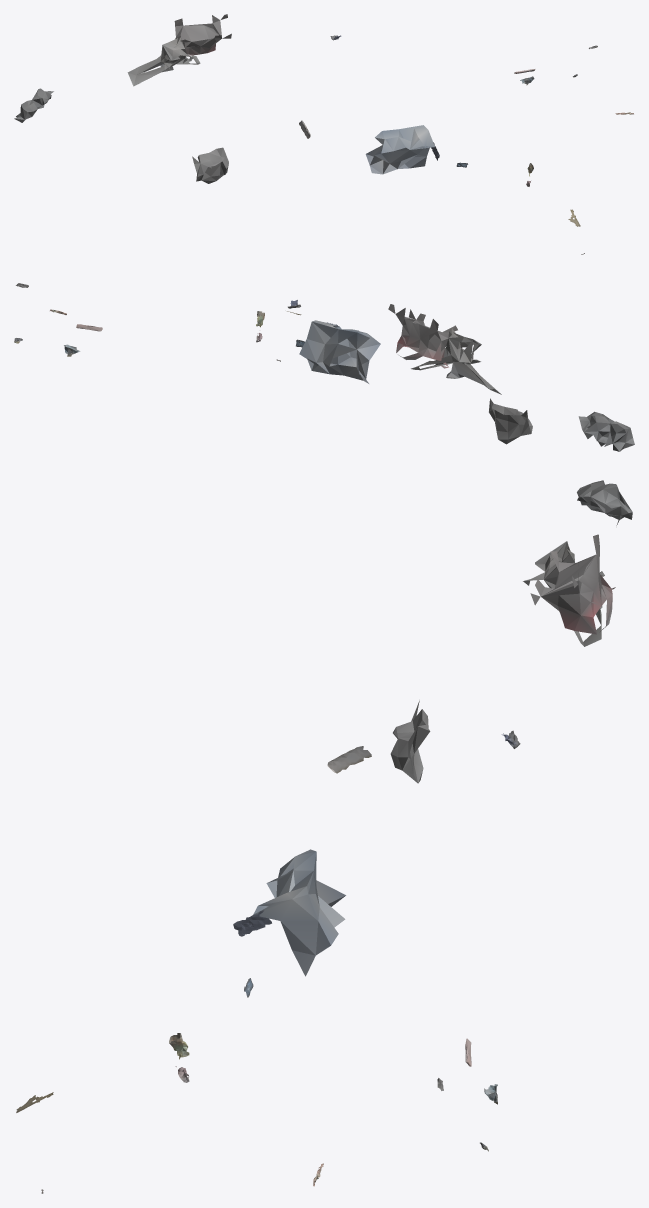
Rendered from models-1-0.glb.
The picture shows the model from 3 angles, top to bottom: view 1: azimuth 30°, elevation 25°; view 2: azimuth 150°, elevation 25°; view 3: azimuth 270°, elevation 25°; orthographic projection. The views are drawn at different scales.
Parts seen in each view (by area): view 1: obj-1-1589, obj-1-1525, obj-1-664, obj-1-1359, obj-1-1509; view 2: obj-1-1589, obj-1-1525, obj-1-664, obj-1-1509, obj-1-1359; view 3: obj-1-1589, obj-1-1525, obj-1-1359, obj-1-1509, obj-1-664.
Part boxes in pixels (x1,y1,x2,y2): obj-1-1589: (365,125,434,174); obj-1-1525: (174,14,231,55); obj-1-664: (127,35,200,86); obj-1-1359: (192,147,228,183); obj-1-1509: (14,88,53,122); obj-1-1589: (299,320,380,383); obj-1-1525: (388,304,457,368); obj-1-664: (411,328,501,394); obj-1-1509: (578,411,634,451); obj-1-1359: (489,398,532,444); obj-1-1589: (253,849,345,976); obj-1-1525: (530,534,615,634); obj-1-1359: (390,700,430,783); obj-1-1509: (577,480,632,525); obj-1-664: (523,541,604,646).
Size of the model in its own units: 18.7 by 6.5 by 9.09.
